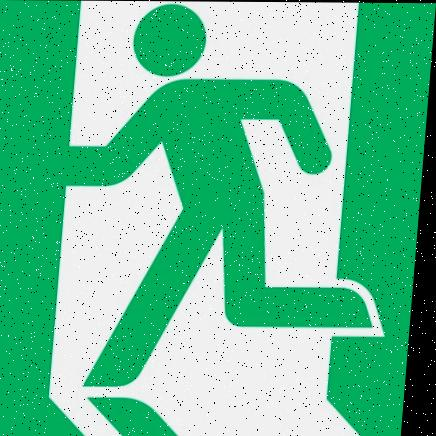emergency_exit: (2, 1, 434, 435)
